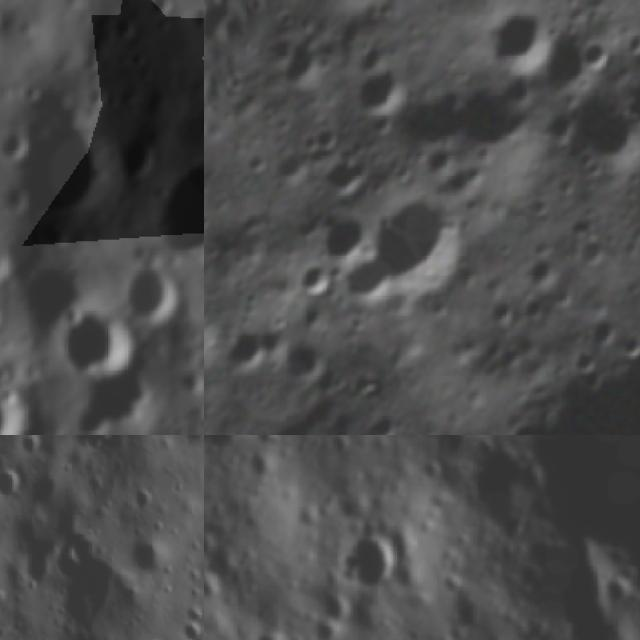crater: (354, 167, 491, 310), (369, 58, 493, 181), (444, 67, 554, 176), (554, 91, 640, 194), (23, 112, 103, 218), (466, 0, 560, 90), (342, 54, 420, 143), (523, 22, 604, 106), (205, 303, 285, 388), (265, 323, 343, 405), (150, 157, 204, 263), (327, 245, 403, 317), (310, 198, 382, 274), (60, 312, 136, 381), (18, 258, 94, 324), (287, 0, 416, 37), (269, 34, 336, 102), (124, 260, 192, 326), (597, 43, 640, 144), (312, 143, 376, 209), (430, 148, 495, 211), (204, 266, 234, 382), (344, 533, 402, 592), (263, 142, 321, 198), (368, 276, 424, 332), (288, 252, 344, 307), (517, 247, 570, 301), (120, 522, 170, 579), (578, 306, 629, 359), (476, 287, 526, 336), (573, 29, 617, 80), (300, 116, 346, 164), (117, 129, 155, 186), (560, 337, 606, 382), (0, 367, 29, 435), (572, 235, 616, 276), (68, 435, 127, 465), (234, 145, 276, 186), (359, 404, 408, 435), (549, 171, 584, 208), (272, 0, 305, 37), (0, 458, 26, 504), (112, 11, 144, 45), (612, 329, 640, 367), (502, 414, 548, 435), (0, 132, 26, 169), (326, 435, 355, 458), (147, 0, 175, 20), (318, 621, 345, 640), (0, 239, 10, 290), (204, 578, 222, 606), (392, 435, 429, 448), (190, 4, 204, 37)
